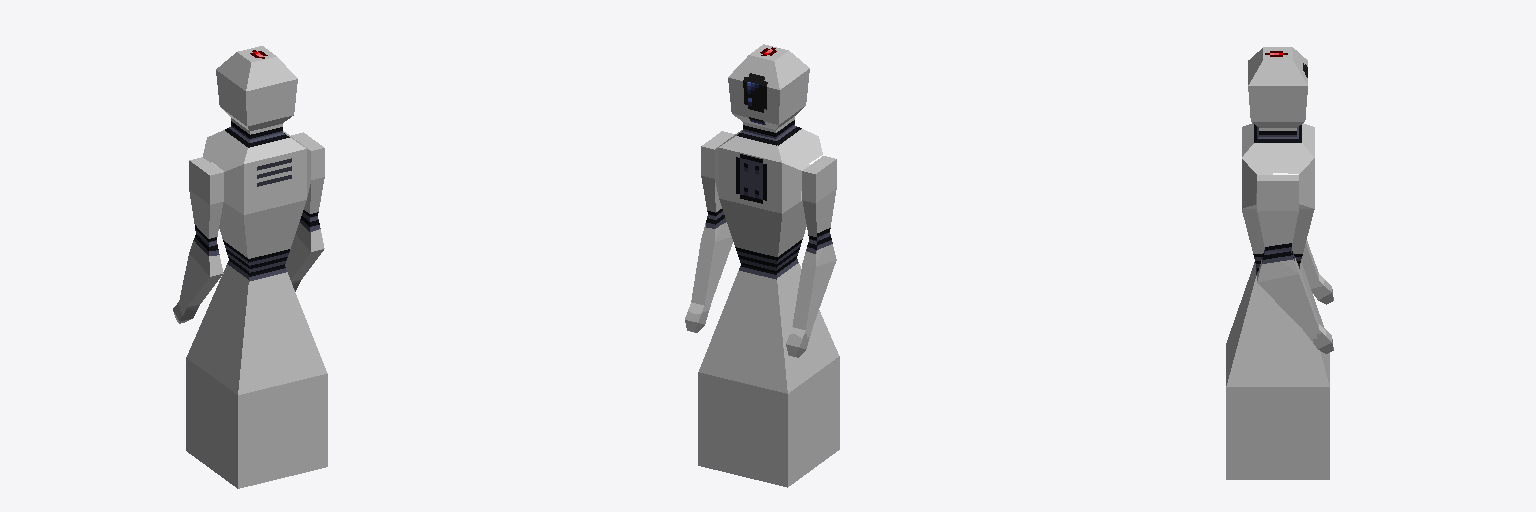
3 renders of one model, left to right at view 1: azimuth 30°, elevation 25°; view 2: azimuth 150°, elevation 25°; view 3: azimuth 270°, elevation 25°, orthographic.
Parts seen in each view (by area): view 1: RobotTex_Cube; view 2: RobotTex_Cube; view 3: RobotTex_Cube.
Part boxes in pixels (x1,y1,x2,y2): RobotTex_Cube: (173, 46, 327, 488); RobotTex_Cube: (685, 44, 839, 487); RobotTex_Cube: (1226, 47, 1333, 479).
Bounding box in the file's own units: 0.2562 × 0.8649 × 0.2074.
1 materials, 1 textured.